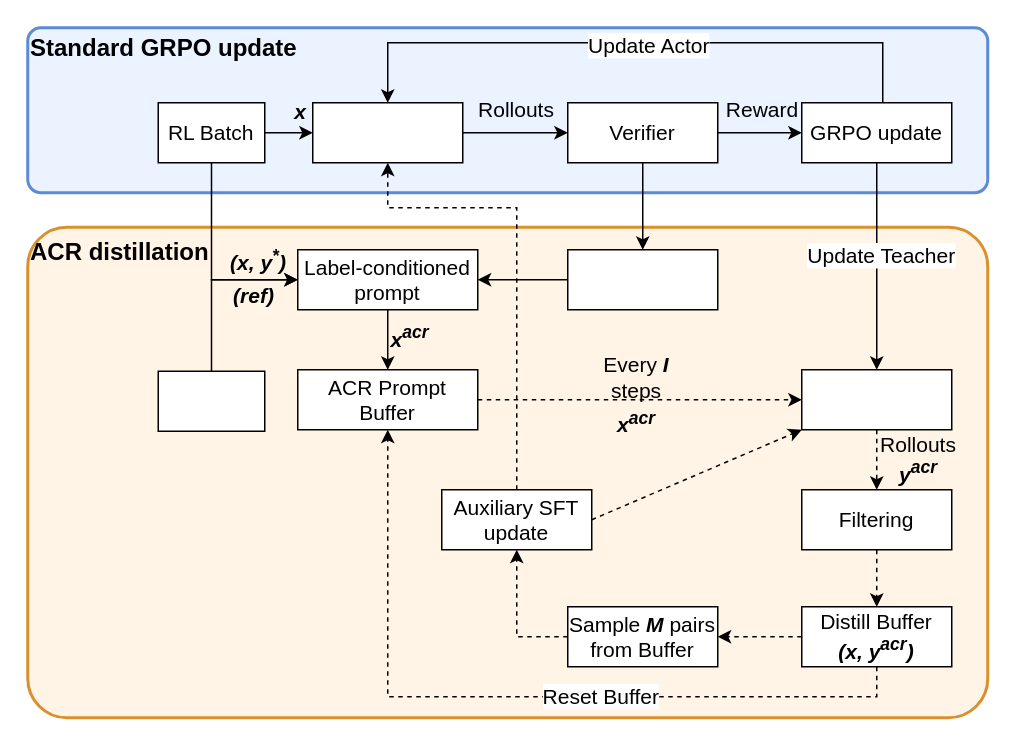
Image size: 1014x744. Some labels were removed from this diagram. Each missing label, with the box of its shape:
Actor Policy: (311, 101, 463, 163)
EMA Teacher: (800, 368, 952, 430)
Hard Samples max reward < 1: (566, 248, 718, 310)
Label Reference: (157, 370, 265, 431)
